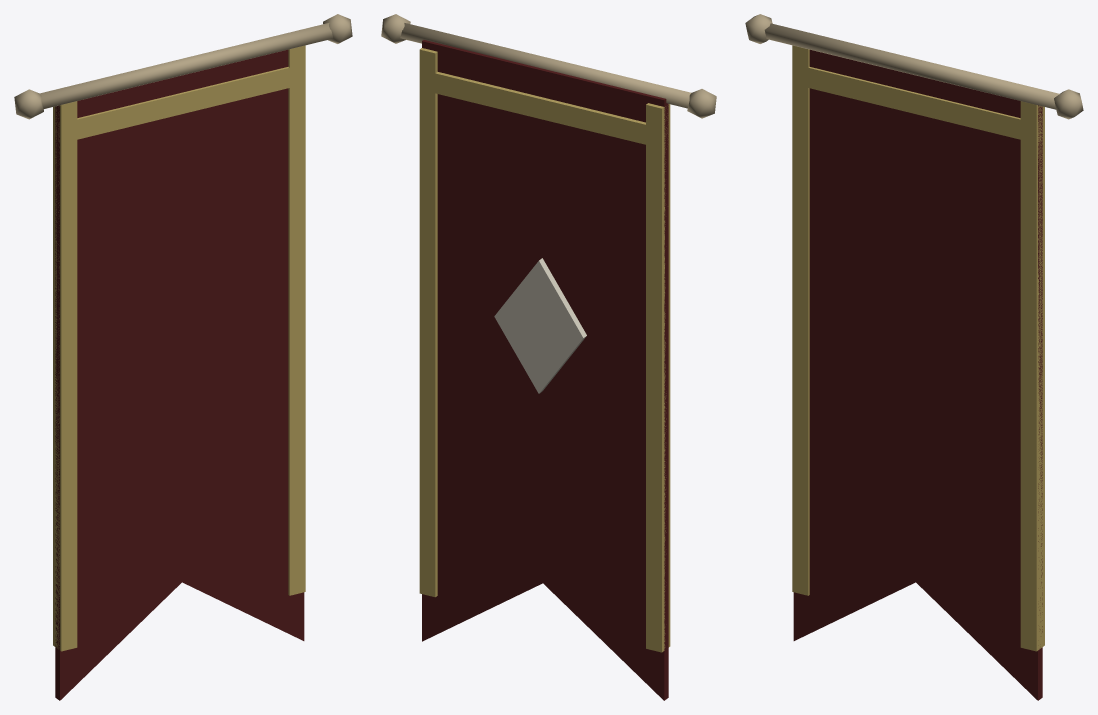
File: wolf_banner_v0.glb
3 views of the same model, side by side, from view 1: azimuth 30°, elevation 25°; view 2: azimuth 150°, elevation 25°; view 3: azimuth 330°, elevation 25° (orthographic).
Parts seen in each view (by area): view 1: wolf_banner_v0; view 2: wolf_banner_v0; view 3: wolf_banner_v0.
Boxes of the visible parts, <box> form: wolf_banner_v0: <box>14,14,352,700</box>; wolf_banner_v0: <box>381,14,716,700</box>; wolf_banner_v0: <box>745,14,1083,700</box>.
Bounding box in the file's own units: 1.04 × 1.84 × 0.0933.
